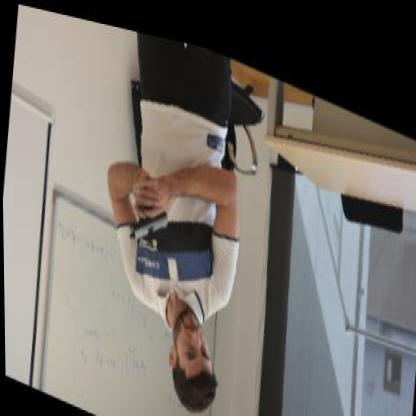pistol: (128, 159, 172, 246)
